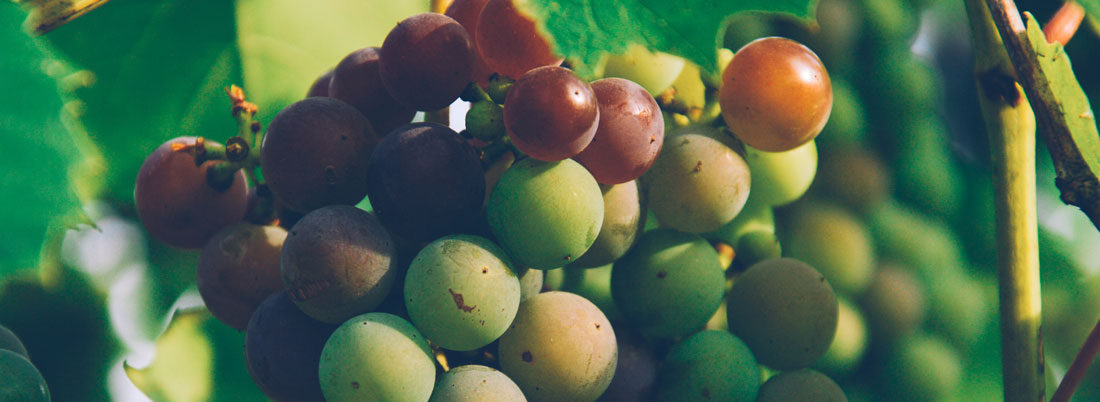Green grapes: (398, 233, 530, 365)
Red Grapes: (718, 48, 835, 114)
